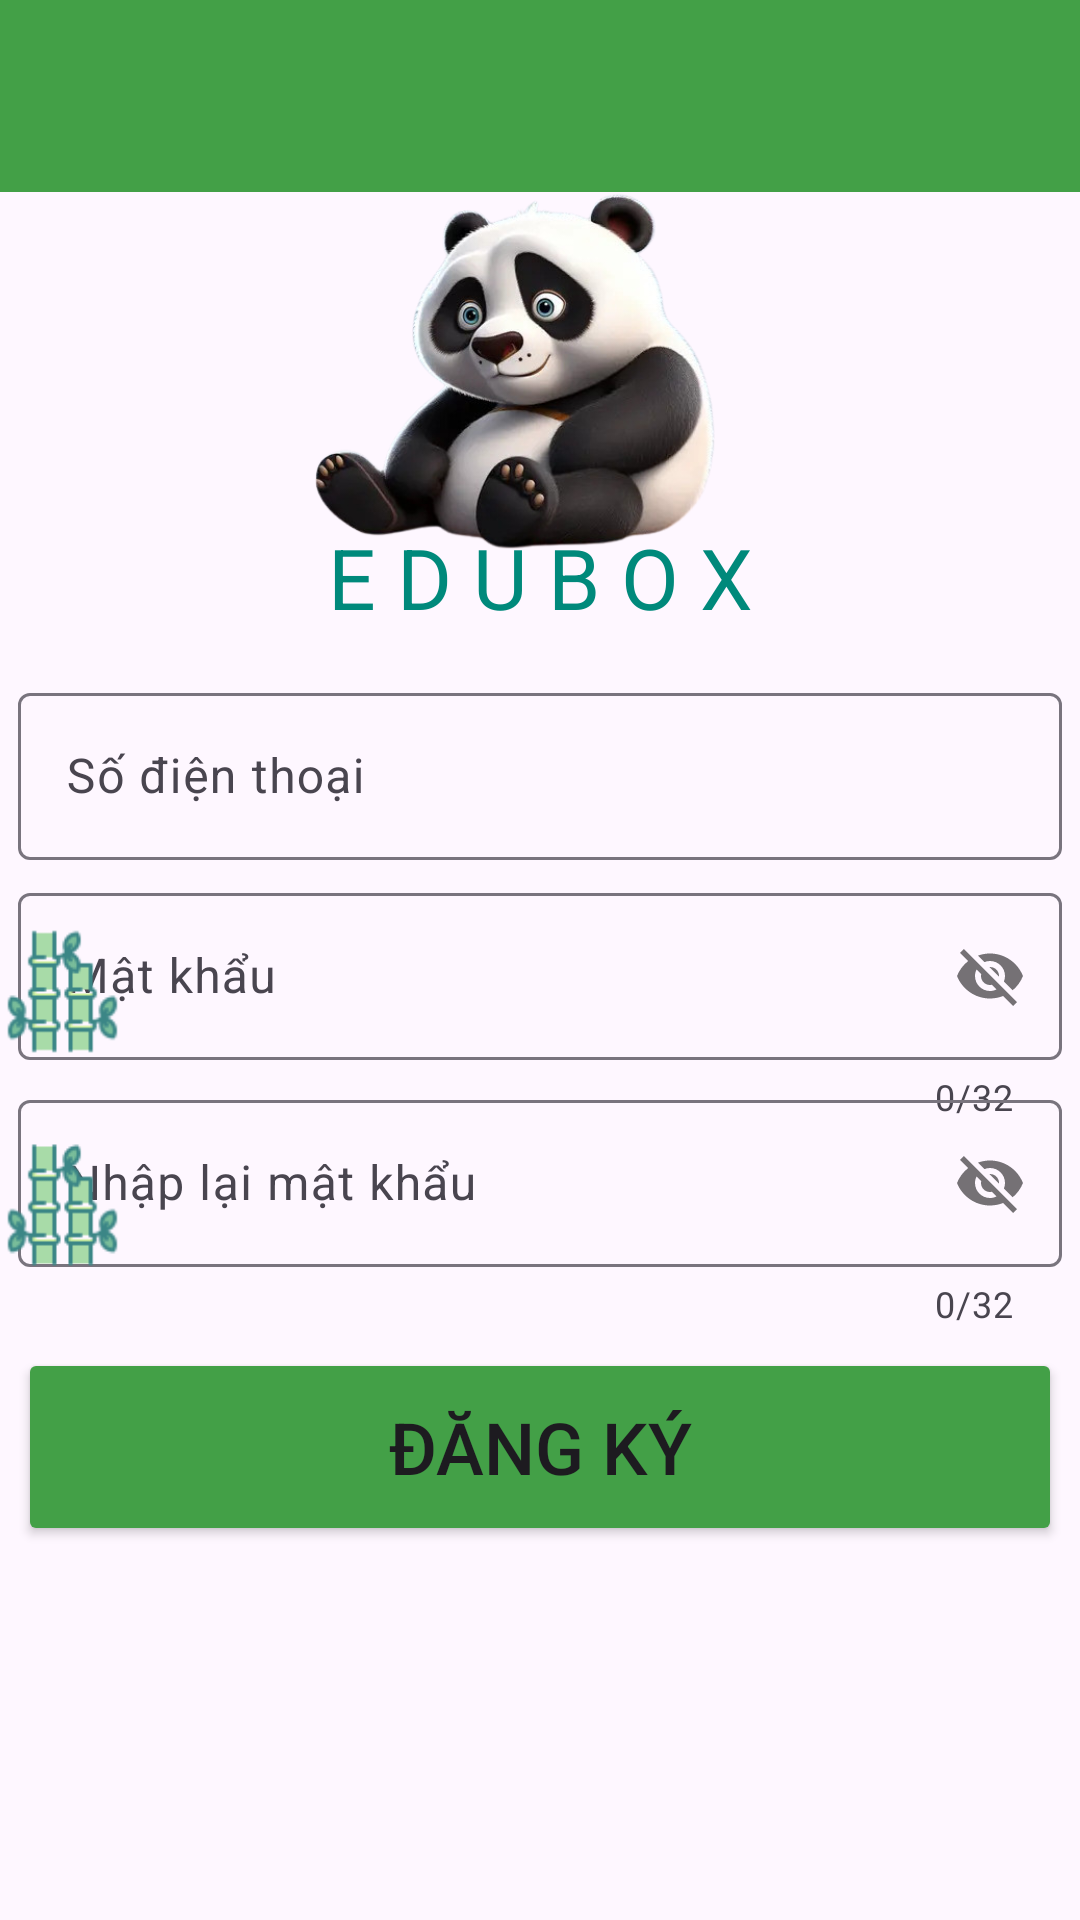

Where to tap for icons on this 1080 × 1920 app screen, as (x=x, y=y):
icbamboo: (x=68, y=989), (x=68, y=1203)
